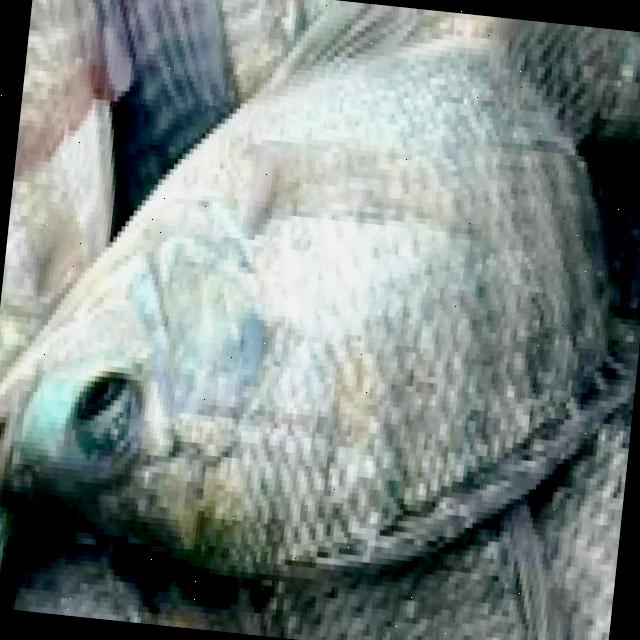Columnaris Disease: (0, 3, 640, 579)
